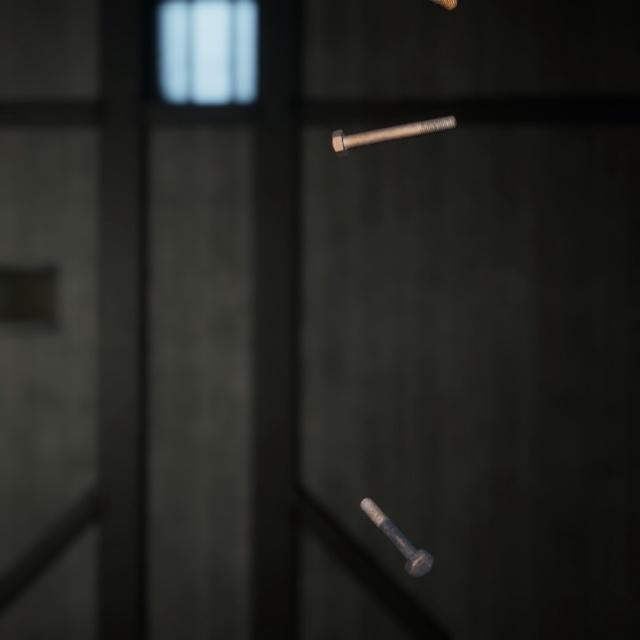bolt: (355, 472, 438, 560), (327, 99, 461, 150)
